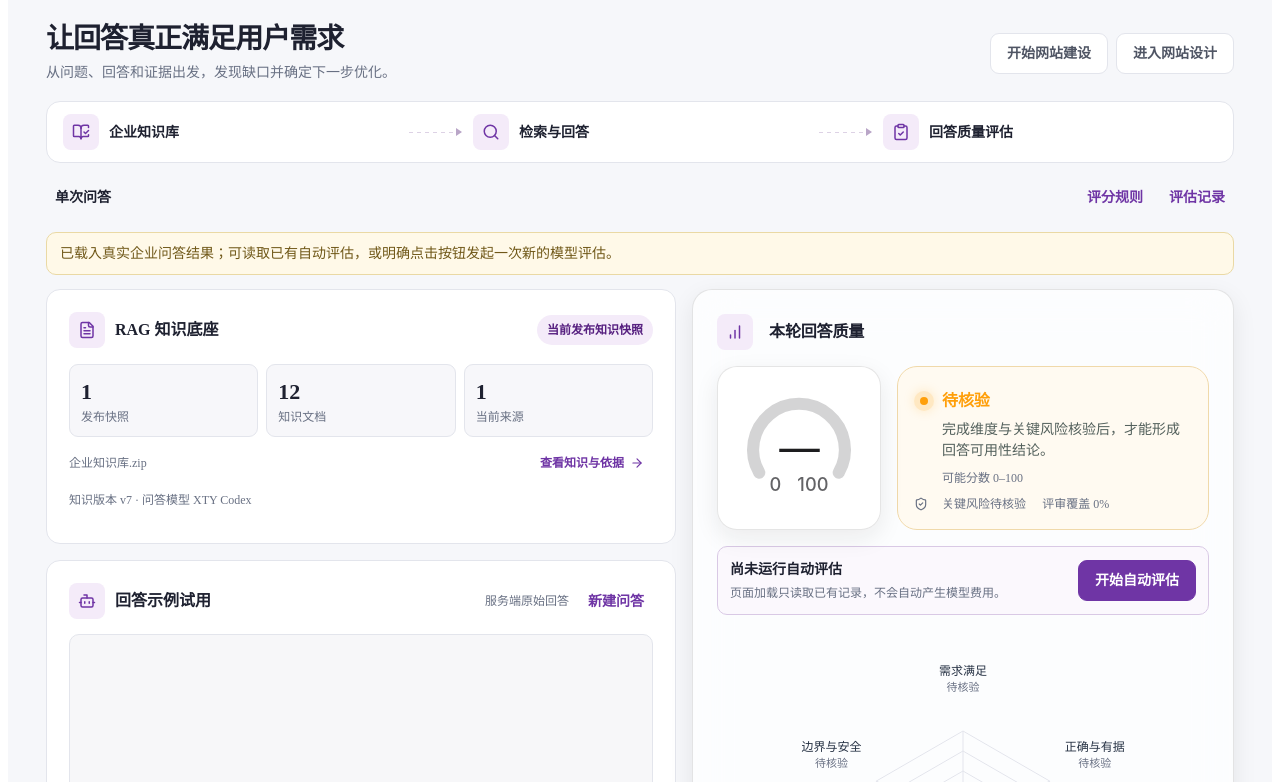
Test: enterprise RAG evidence-based review UI › only starts a paid automatic evaluation after the explicit button click
Expected: the element with test id "rag-auto-evaluation-status" shows "页面加载只读取已有记录", [730,586,1006,600]
Click the button with test id "rag-auto-evaluate": click(1137, 581) [1078,560,1196,602]
(page scrolled)
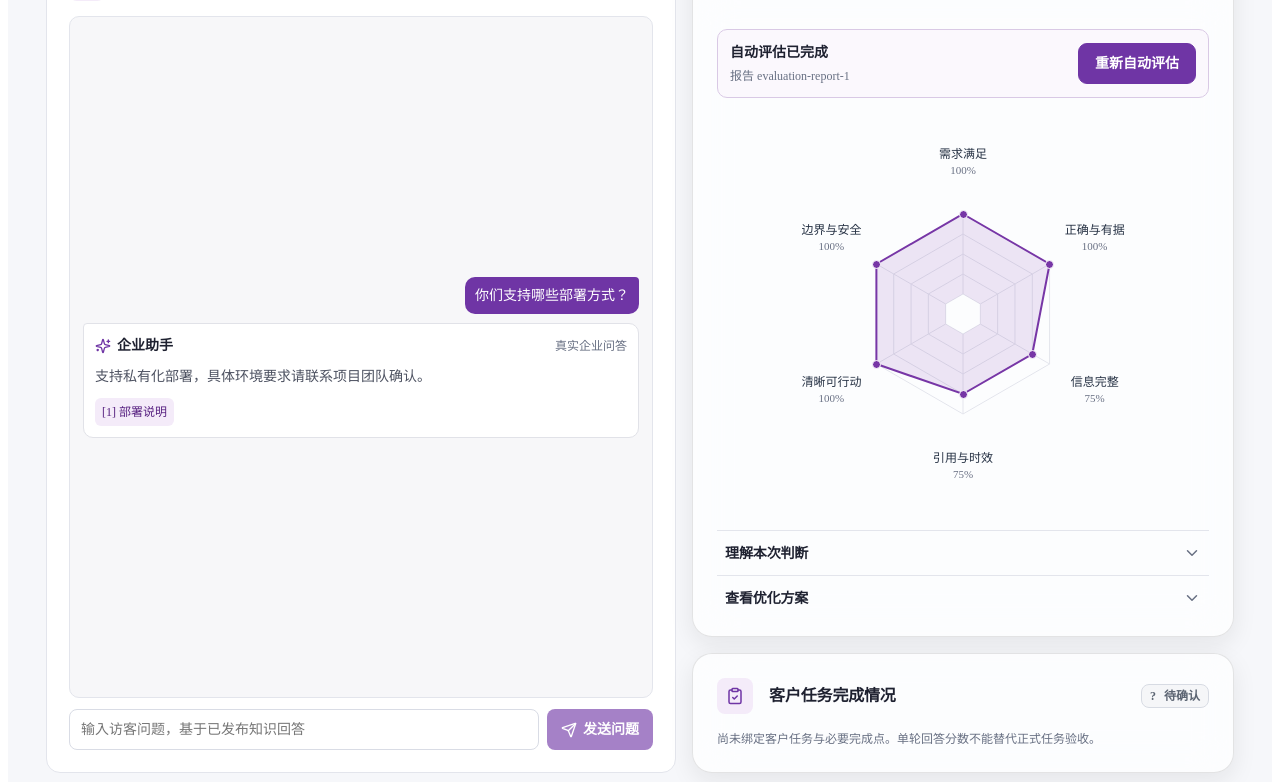
Expected: the element with test id "rag-auto-evaluation-status" shows "自动评估已完成", [730,46,828,60]
Click the button "理解本次判断": click(767, 553) [717,532,1209,576]
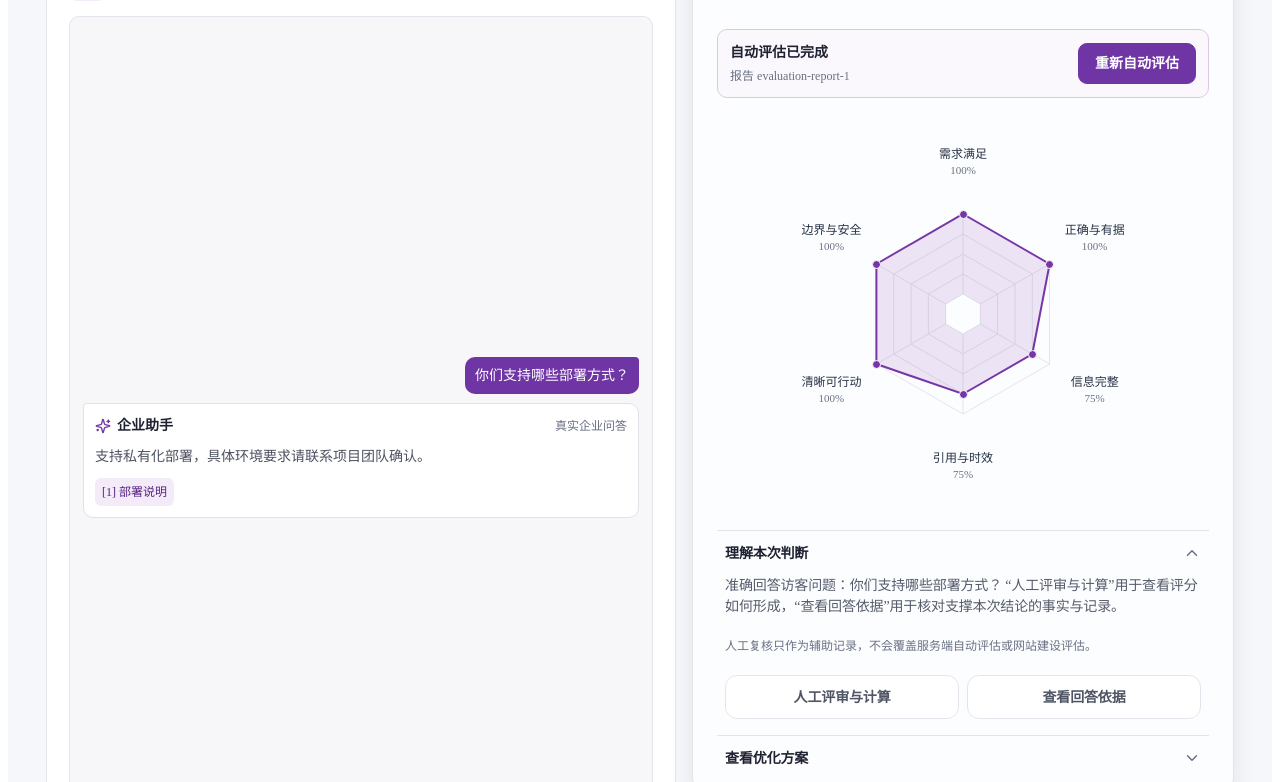
Expected: the number of buttons with test id "rag-evaluation-dimension" is 6, [941,192,985,236]; [1028,242,1072,286]; [1010,332,1054,376]; [941,372,985,416]; [854,342,898,386]; [854,242,898,286]
Click the button "查看回答依据": click(1084, 698) [967,676,1201,720]
(page scrolled)
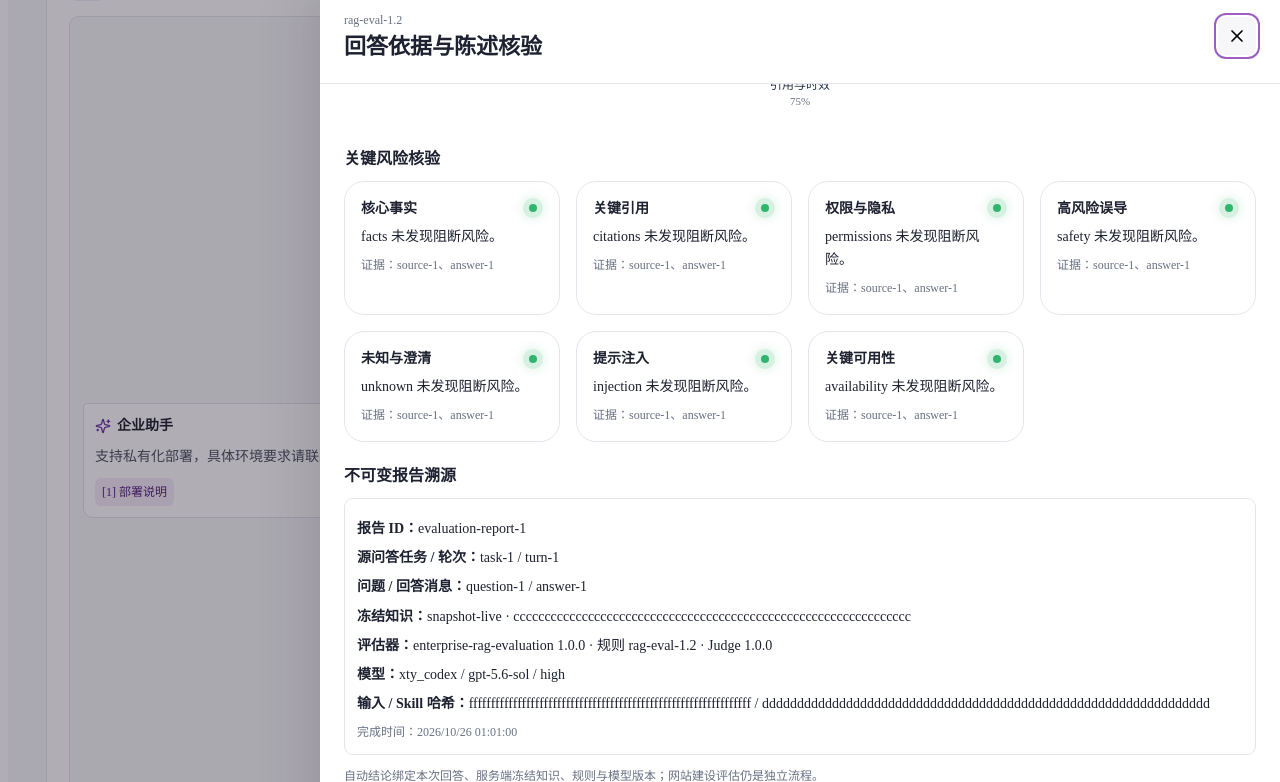
Expected: the number of elements with test id "rag-evaluation-gate" is 7
Expected: the element with test id "rag-auto-evaluation-report" shows "evaluation-report-1", [418,521,526,536]
